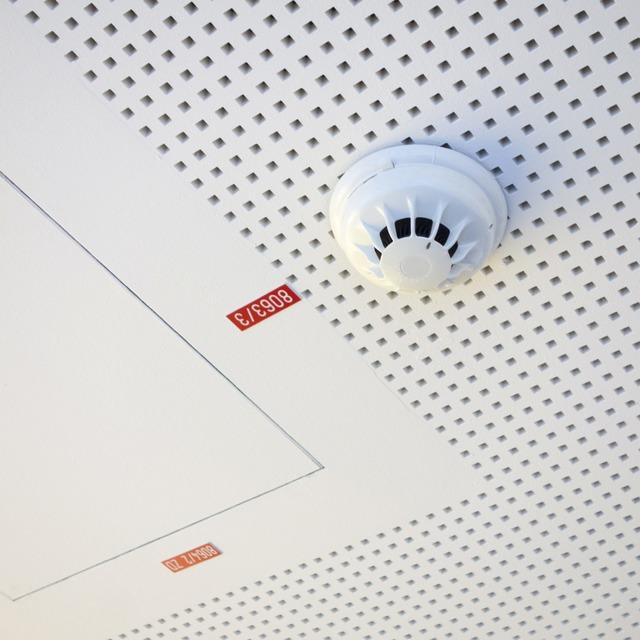Smoke-Detector: (329, 142, 509, 302)
